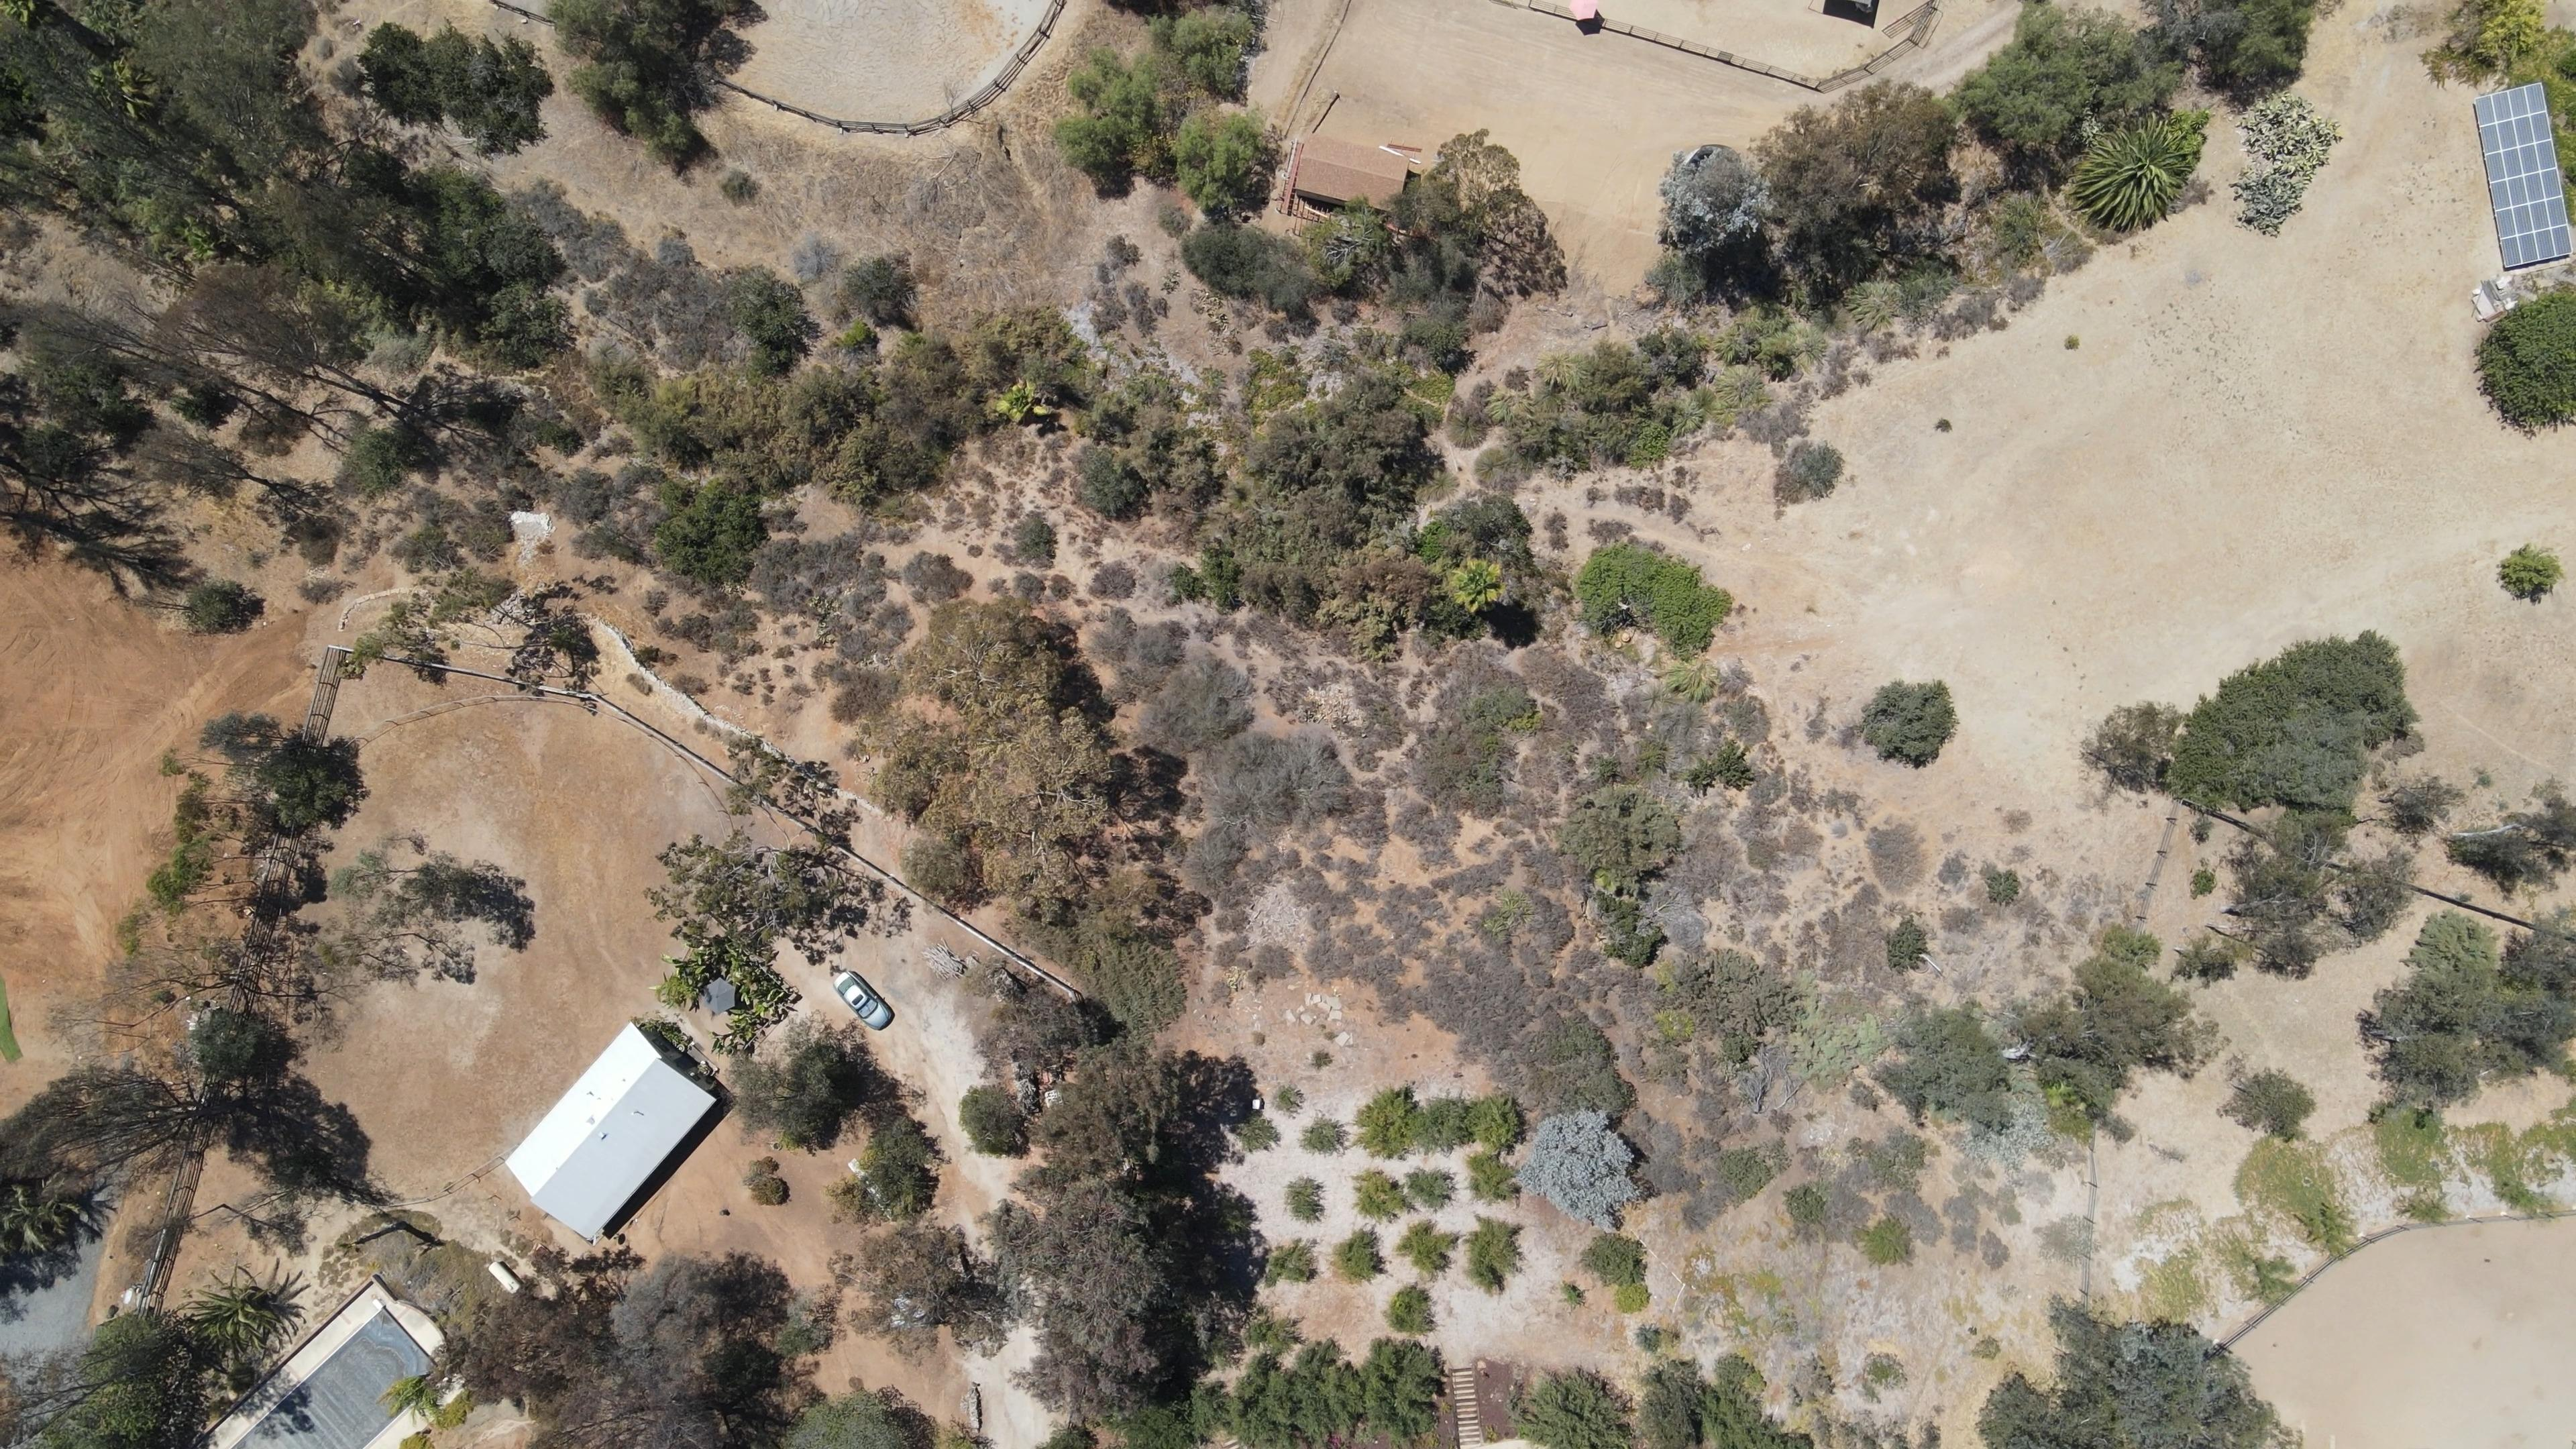panel: (2473, 81, 2574, 269)
